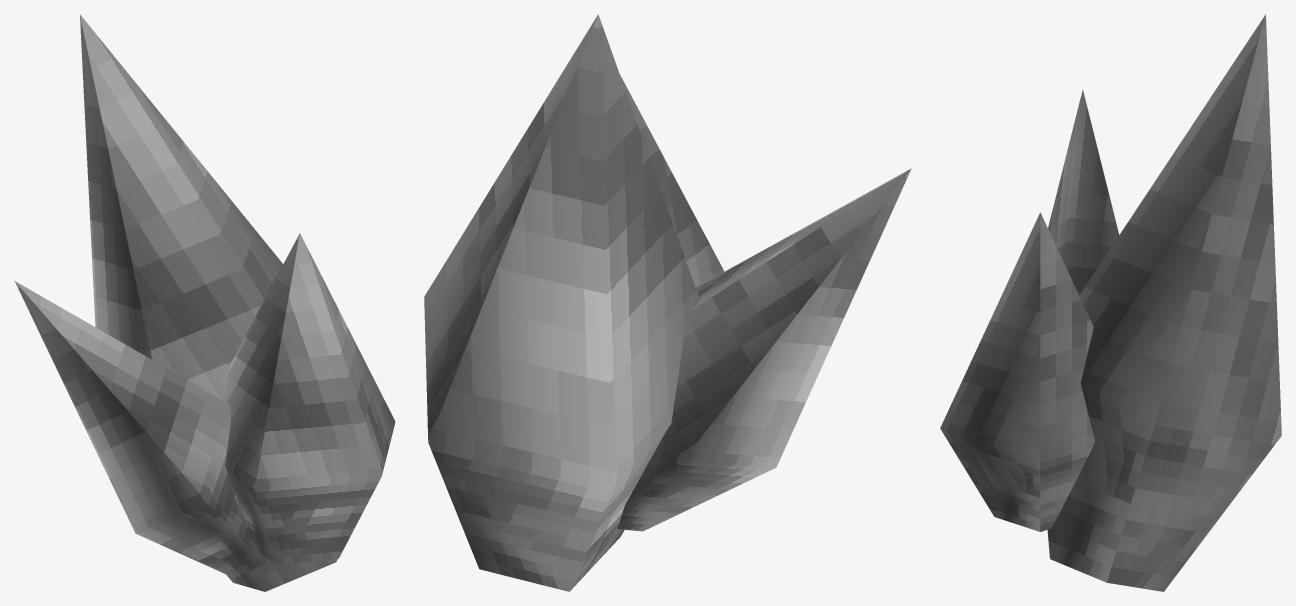
Rendered from crystal02.obj.
3 views of the same model, side by side, from view 1: azimuth 30°, elevation 25°; view 2: azimuth 150°, elevation 25°; view 3: azimuth 270°, elevation 25° (orthographic). The views are drawn at different scales.
Visible parts, largest first — view 1: Duplicate01, Cylinder02, Duplicate02; view 2: Duplicate01, Duplicate02, Cylinder02; view 3: Duplicate01, Cylinder02, Duplicate02.
Part boxes in pixels (x1=…): Duplicate01: x1=80, y1=14, x2=337, y2=591; Cylinder02: x1=223, y1=233, x2=395, y2=564; Duplicate02: x1=14, y1=281, x2=267, y2=577; Duplicate01: x1=424, y1=14, x2=699, y2=591; Duplicate02: x1=617, y1=168, x2=911, y2=531; Cylinder02: x1=620, y1=75, x2=724, y2=287; Duplicate01: x1=1047, y1=14, x2=1281, y2=591; Cylinder02: x1=940, y1=212, x2=1094, y2=531; Duplicate02: x1=1048, y1=89, x2=1119, y2=295.
Bounding box in the file's own units: 3.6 × 5.18 × 3.09.
